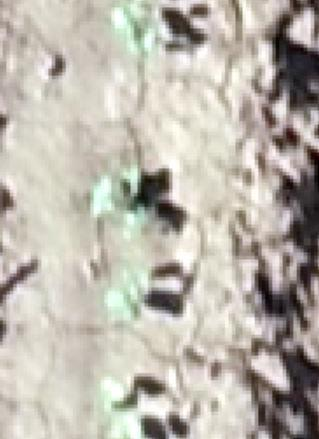cotton: (113, 11, 150, 42), (118, 200, 149, 234), (92, 180, 127, 210), (106, 293, 136, 321), (129, 25, 160, 52), (104, 381, 128, 407), (128, 169, 145, 194)
